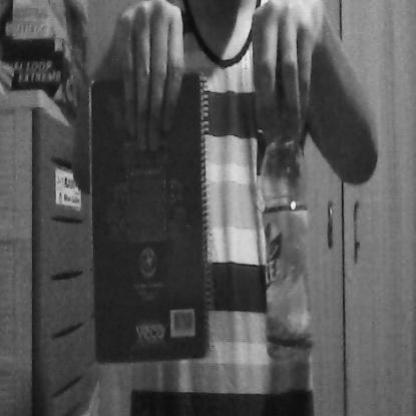Plastic Bottle: (254, 93, 321, 375)
